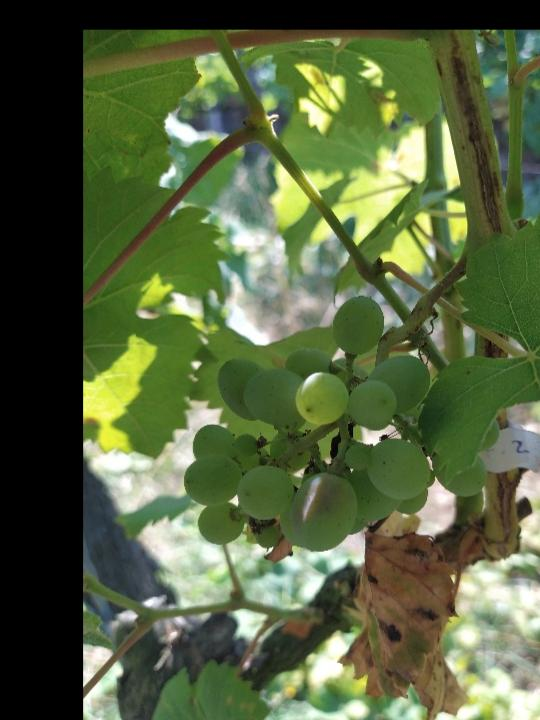grape: (182, 292, 502, 554)
